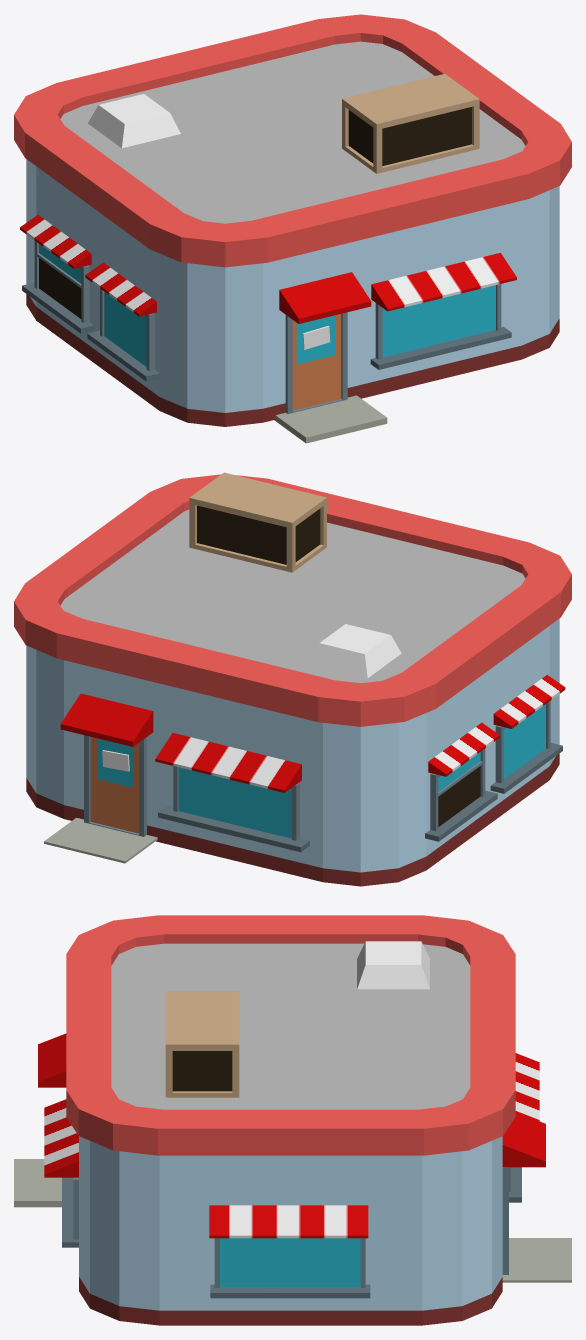
The model's file is hotel.fbx.
3 renders of one model, top to bottom at view 1: azimuth 30°, elevation 25°; view 2: azimuth 150°, elevation 25°; view 3: azimuth 270°, elevation 25°, orthographic. The views are drawn at different scales.
Parts seen in each view (by area): view 1: Cube.003; view 2: Cube.003; view 3: Cube.003.
Part boxes in pixels (bbox=[...]): Cube.003: bbox=[14, 14, 571, 443]; Cube.003: bbox=[14, 472, 571, 886]; Cube.003: bbox=[14, 915, 571, 1325].
Bounding box in the file's own units: 1462 × 741 × 1515.
